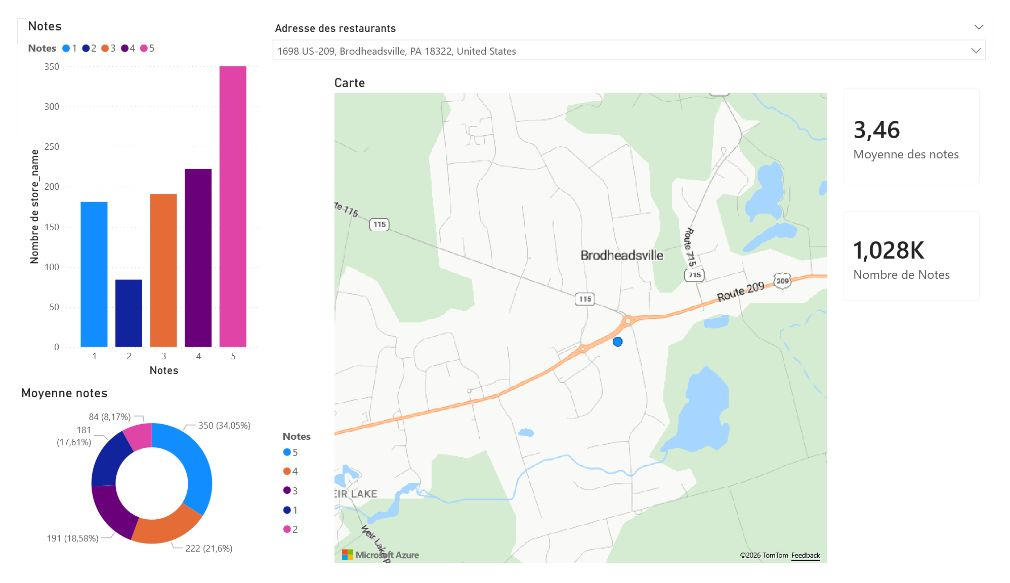

Layout of this report page (visuals, bound fields, positions):
{"tool":"powerbi","page":{"name":"Page 1","canvas":[1280,720],"ordinal":0},"visuals":[{"type":"columnChart","title":"Notes","fields":{"Series":["store_address.Notes"],"Y":["CountNonNull(McDonald_s_Reviews1.store_name)"],"Category":["store_address.Notes"]},"box":[9.4,0,315.6,474.3],"z":0},{"type":"slicer","fields":{"Values":["McDonald_s_Reviews1.store_address"]},"box":[325.5,0,955.3,74.5],"z":1000},{"type":"azureMap","title":"Carte","fields":{"Category":["McDonald_s_Reviews1.store_address"],"Y":["Min(McDonald_s_Reviews1.latitude )"],"X":["Min(McDonald_s_Reviews1.longitude)"],"Size":["Count(McDonald_s_Reviews1.Notes)"]},"box":[411.3,74.5,657.4,646.1],"z":2000},{"type":"donutChart","title":"Moyenne notes","fields":{"Category":["McDonald_s_Reviews1.Notes"],"Y":["CountNonNull(McDonald_s_Reviews1.store_address)"]},"box":[0,480.9,411.3,239.6],"z":3000},{"type":"cardVisual","fields":{"Data":["CountNonNull(McDonald_s_Reviews1.Notes)"]},"box":[1067.1,236.4,213.7,152.2],"z":4000},{"type":"cardVisual","fields":{"Data":["McDonald_s_Reviews1.Moyenne des notes"]},"box":[1067.1,74.5,213.7,161.9],"z":5000}]}

Visuals, with their boxes in screenshot pixels (x1, y1, x2, y2), scaled from the page's 1280x720 canvas onto the 1010x583 screenshot:
"Notes" columnChart: 7/0/256/384
slicer - McDonald_s_Reviews1.store_address: 257/0/1009/60
"Carte" azureMap: 325/60/843/582
"Moyenne notes" donutChart: 0/389/325/582
cardVisual - CountNonNull(McDonald_s_Reviews1.Notes): 842/191/1009/315
cardVisual - McDonald_s_Reviews1.Moyenne des notes: 842/60/1009/191
